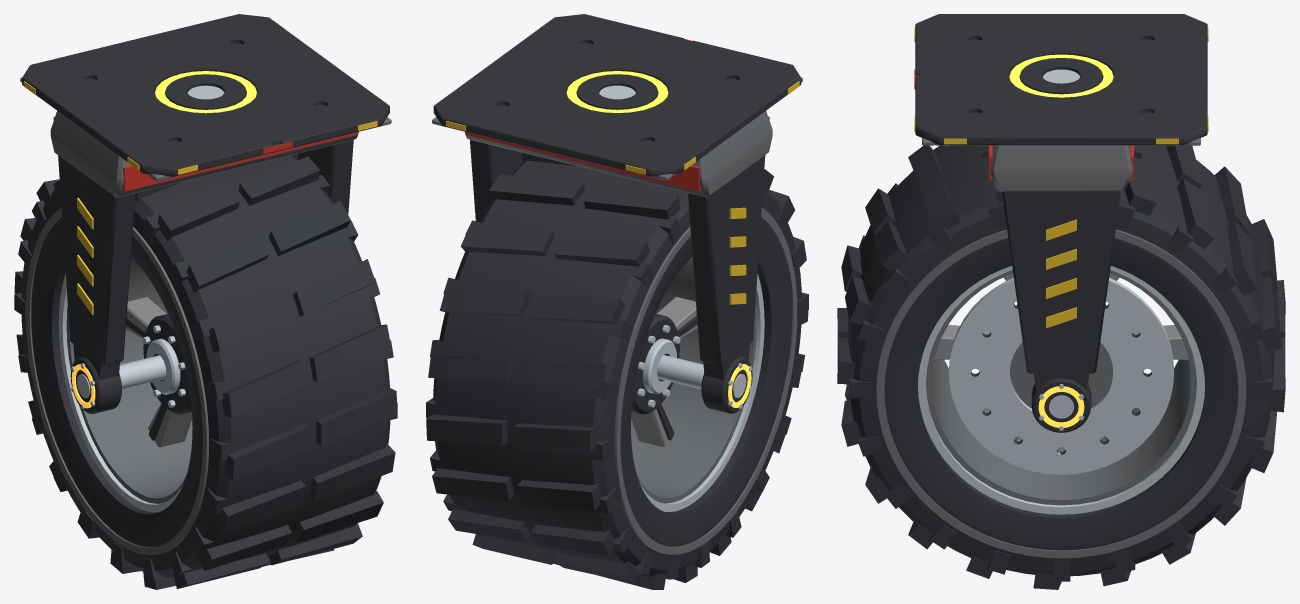
File: R4M_Wheel.glb
3 renders of one model, left to right at view 1: azimuth 30°, elevation 25°; view 2: azimuth 150°, elevation 25°; view 3: azimuth 270°, elevation 25°, orthographic. The views are drawn at different scales.
Visible parts, largest first — view 1: R4M_Wheel_Rotor, R4M_Wheel_Mount; view 2: R4M_Wheel_Rotor, R4M_Wheel_Mount; view 3: R4M_Wheel_Rotor, R4M_Wheel_Mount.
Boxes of the visible parts, x1=… form: R4M_Wheel_Rotor: x1=14, y1=153, x2=397, y2=589; R4M_Wheel_Mount: x1=20, y1=14, x2=391, y2=413; R4M_Wheel_Rotor: x1=426, y1=152, x2=808, y2=589; R4M_Wheel_Mount: x1=432, y1=14, x2=802, y2=413; R4M_Wheel_Rotor: x1=837, y1=145, x2=1285, y2=589; R4M_Wheel_Mount: x1=914, y1=14, x2=1208, y2=432.
Bounding box in the file's own units: 0.5126 × 0.91 × 0.7799.
